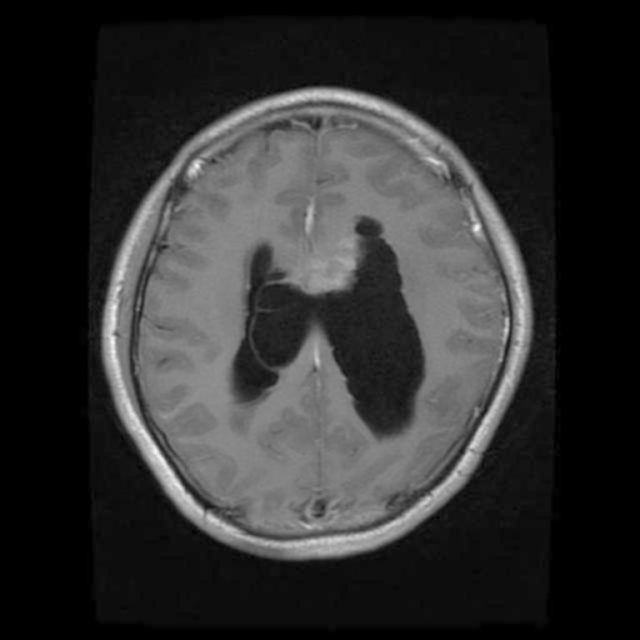pituitary tumor: (278, 224, 362, 290)
